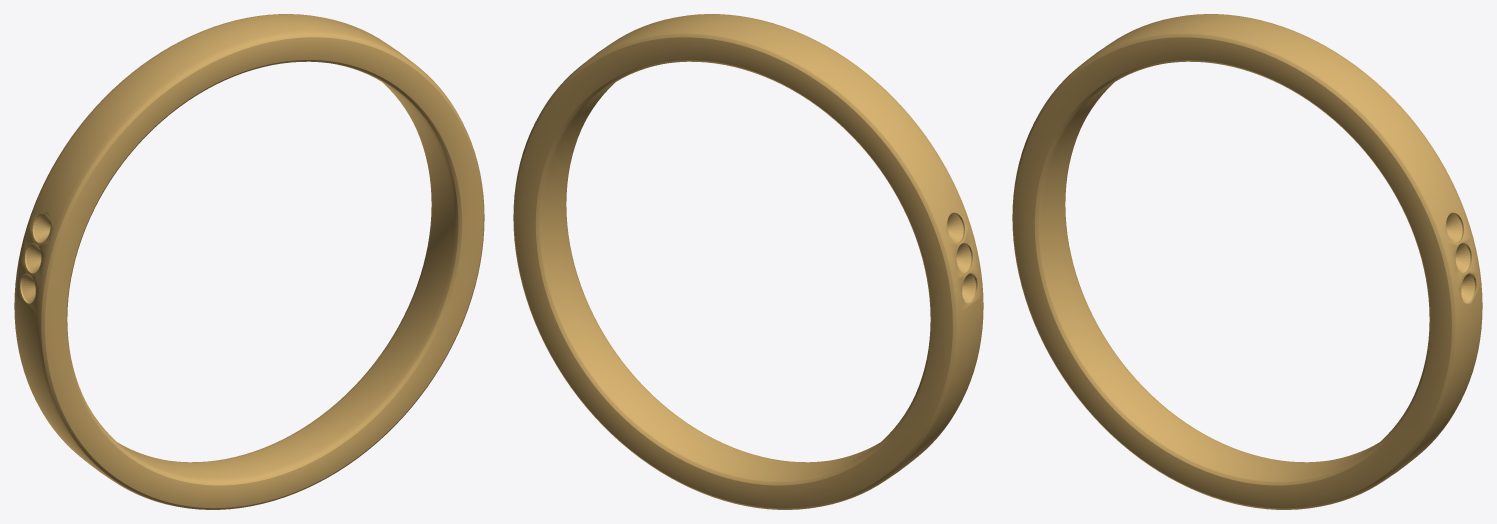
File: flat-micro-pave-multi.glb
3 renders of one model, left to right at view 1: azimuth 30°, elevation 25°; view 2: azimuth 150°, elevation 25°; view 3: azimuth 330°, elevation 25°, orthographic.
Visible parts, largest first — view 1: Band; view 2: Band; view 3: Band.
Part boxes in pixels (bbox=[...]): Band: bbox=[14, 14, 484, 509]; Band: bbox=[513, 14, 983, 509]; Band: bbox=[1012, 14, 1482, 509].
Bounding box in the file's own units: 19.6 × 19.6 × 2.3.
